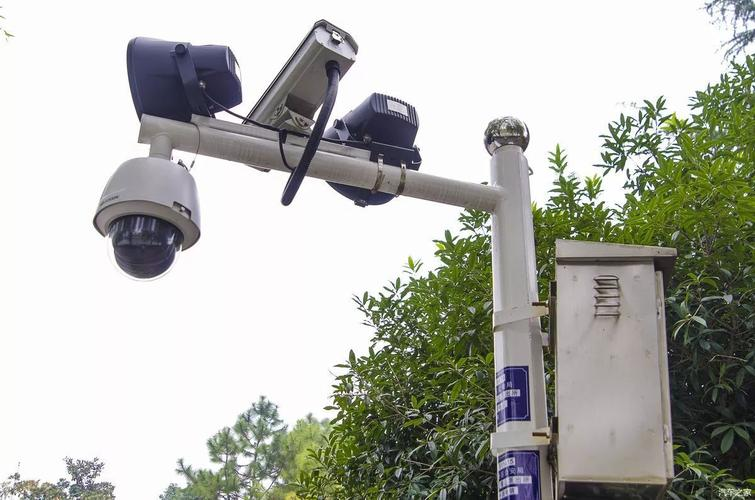bicycle: (235, 18, 361, 161), (99, 156, 200, 269)
